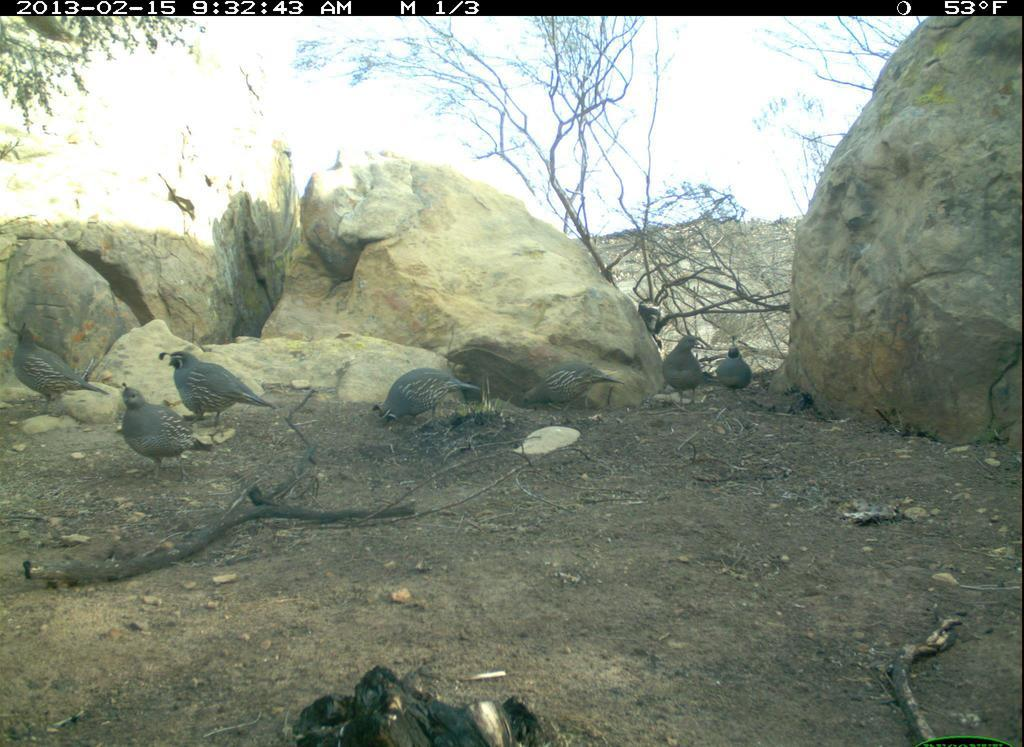bird: (7, 326, 117, 425), (367, 364, 496, 440), (163, 340, 273, 428), (118, 377, 208, 477), (515, 350, 625, 425), (652, 323, 711, 408), (716, 335, 763, 415)
